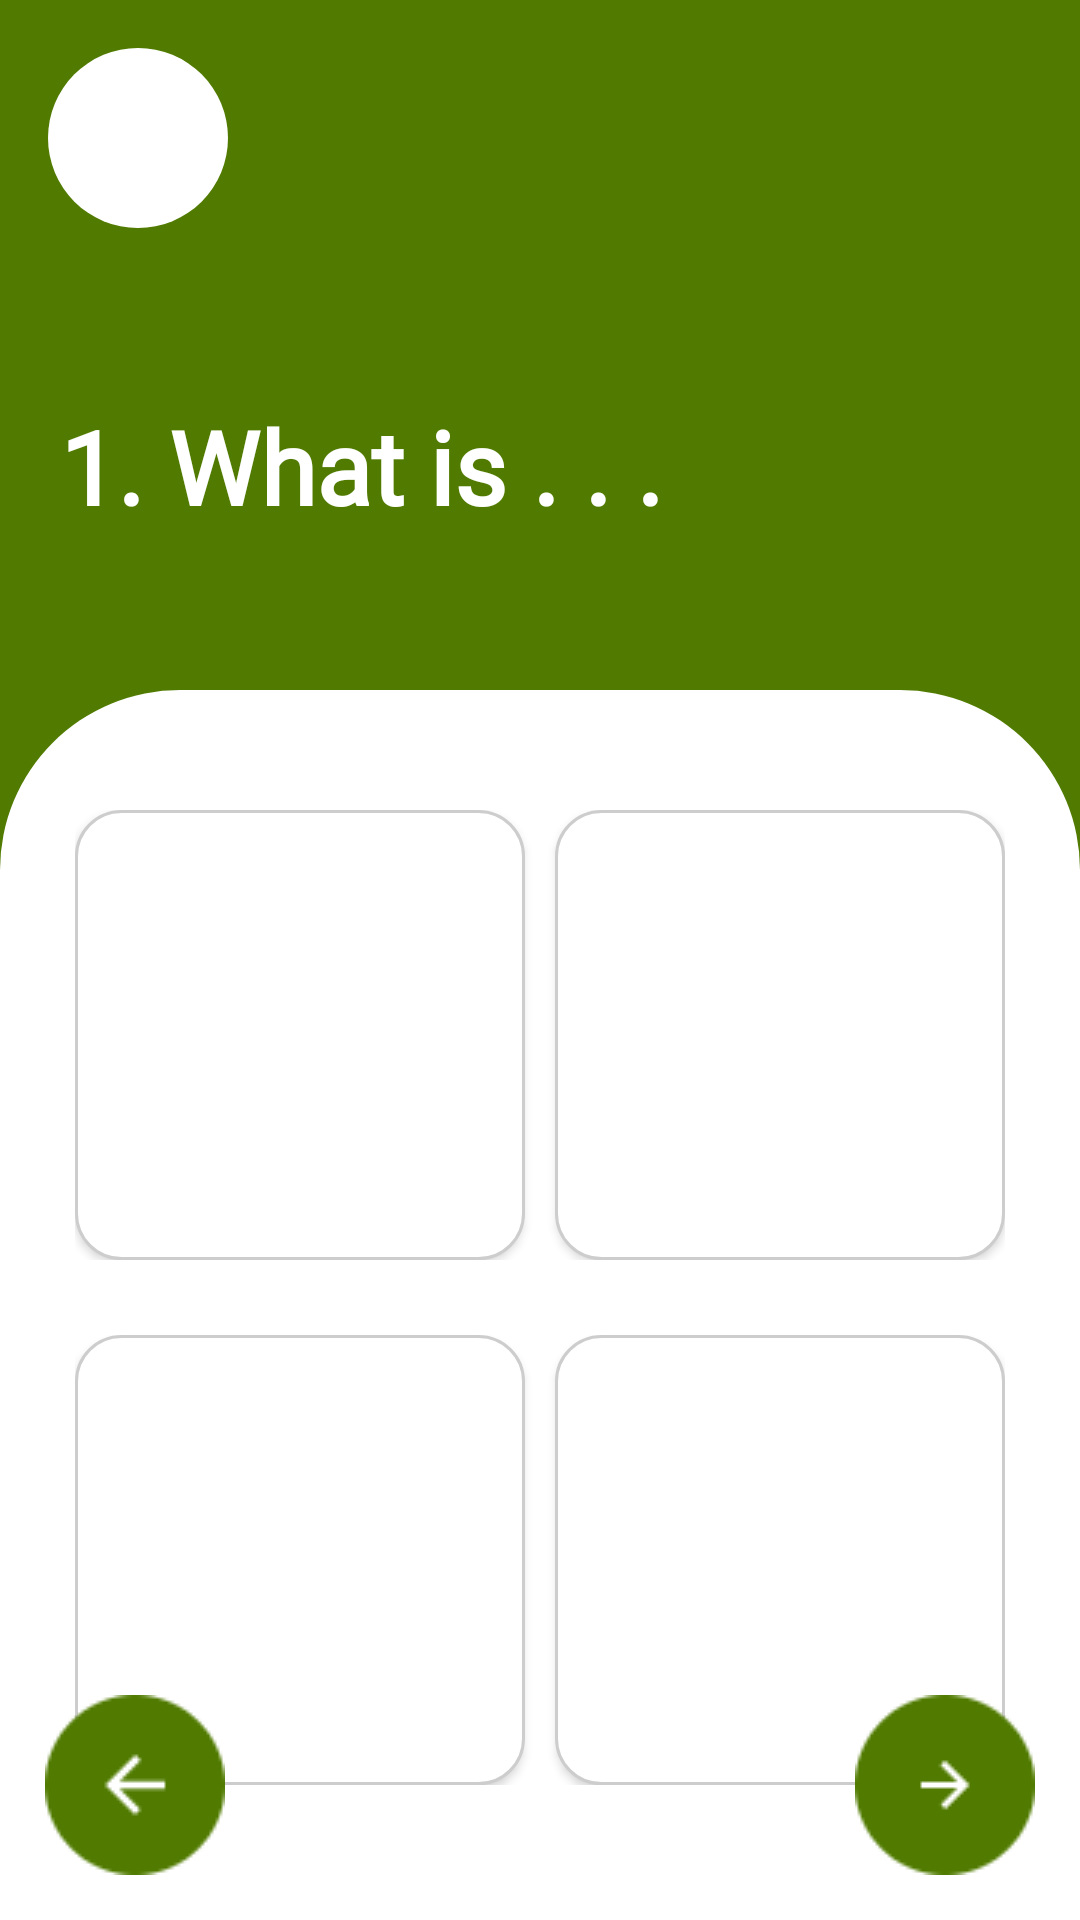

Named icons in this screenshot (1080px×1920px) and their bounding boxes, (x1, y1, x2, y2):
left: (45, 1695, 225, 1875)
right: (855, 1695, 1035, 1875)
